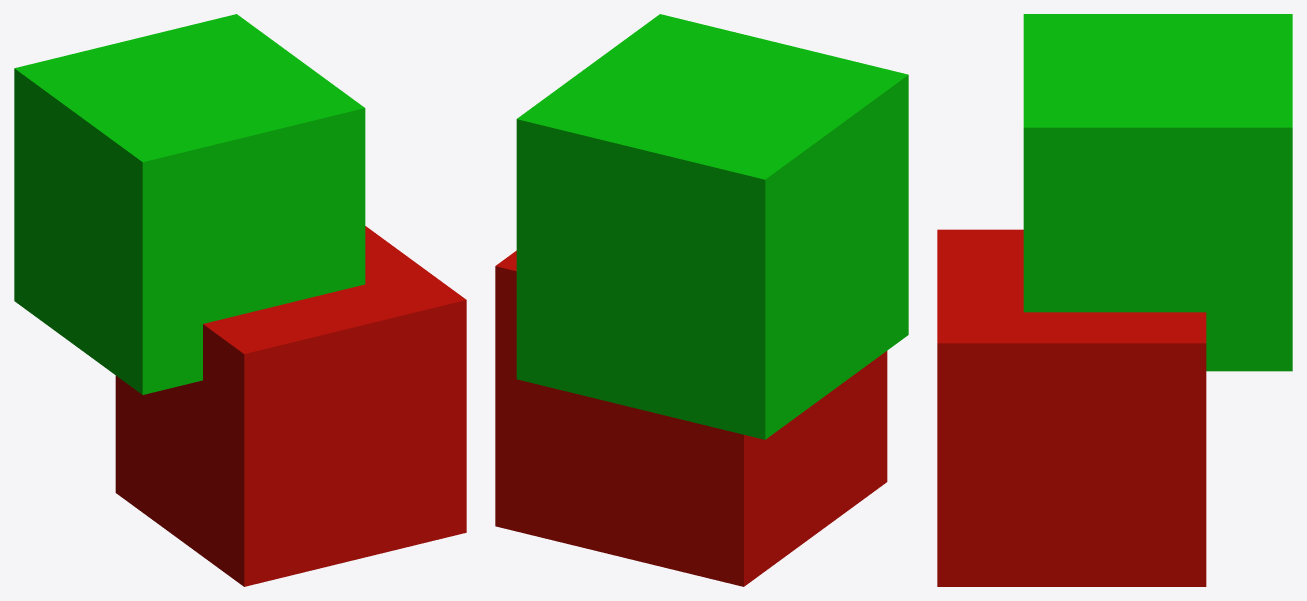
Rendered from DuoCube.obj.
The picture shows the model from 3 angles, left to right: view 1: azimuth 30°, elevation 25°; view 2: azimuth 150°, elevation 25°; view 3: azimuth 270°, elevation 25°; orthographic projection. The views are drawn at different scales.
Parts seen in each view (by area): view 1: DuoCube_Cube.003; view 2: DuoCube_Cube.003; view 3: DuoCube_Cube.003.
Boxes of the visible parts, x1=… form: DuoCube_Cube.003: x1=14, y1=14, x2=466, y2=586; DuoCube_Cube.003: x1=495, y1=14, x2=908, y2=586; DuoCube_Cube.003: x1=937, y1=14, x2=1292, y2=586.
Size of the model in its own units: 2.54 by 3.52 by 2.64.
